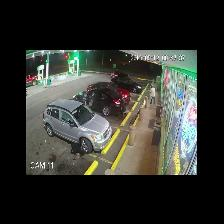person: (71, 143, 85, 158), (121, 100, 126, 117), (151, 85, 155, 104)
